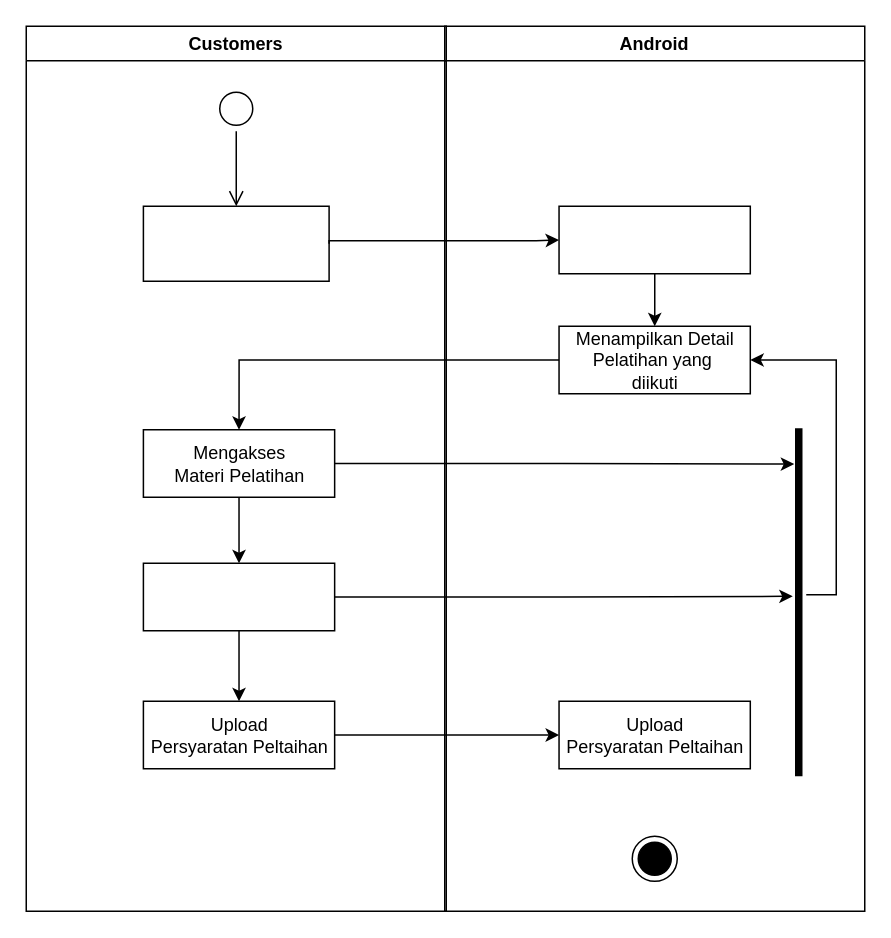
Some shapes in this 891 by 938 pixel diagram are drawn without their labels. The shapes that lost their labels are listed below. From the top down, each one's centre as x and y in pixels, then its label:
the point at 235,243: Akses halaman Pelatihan yang diikuti
the point at 654,239: Menampilkan Halaman Pelatihan yang diikuti
the point at 238,596: Mengakses Sertifikasi Pelatihan
